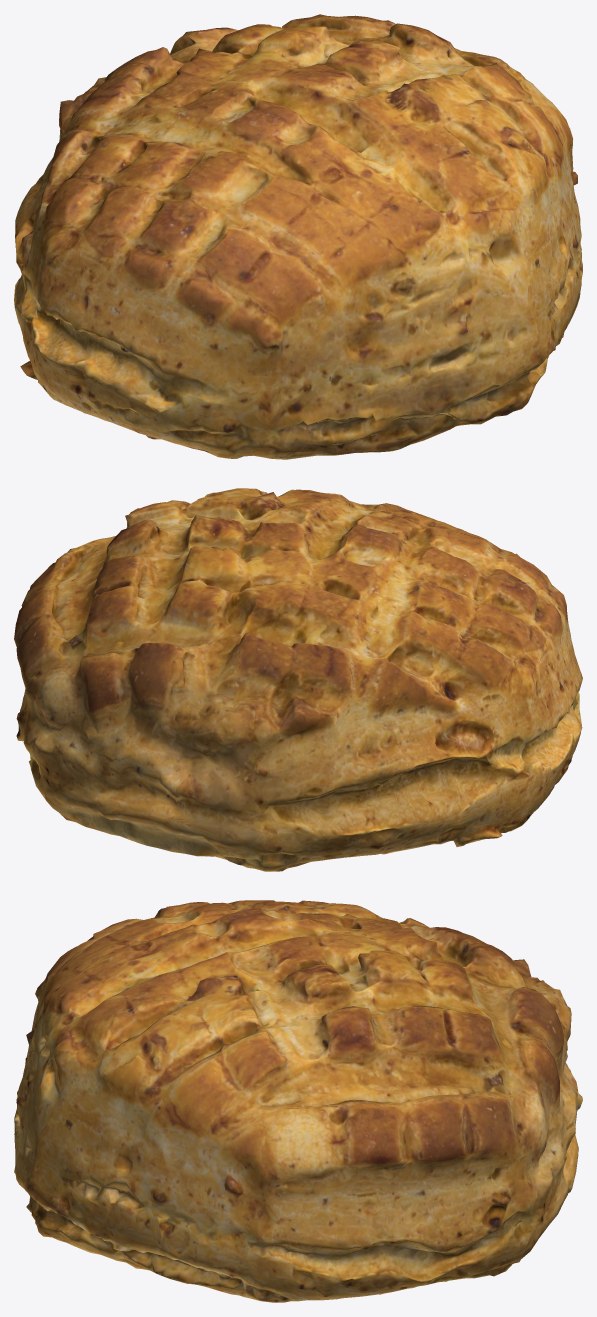
Rendered from BakeryProduct3_LOD1.gltf.
3 renders of one model, top to bottom at view 1: azimuth 30°, elevation 25°; view 2: azimuth 150°, elevation 25°; view 3: azimuth 270°, elevation 25°, orthographic. The views are drawn at different scales.
Parts seen in each view (by area): view 1: BakeryProduct3_LOD1; view 2: BakeryProduct3_LOD1; view 3: BakeryProduct3_LOD1.
Boxes of the visible parts, box(x1,y1,x2,y2) form: BakeryProduct3_LOD1: box(14, 14, 582, 459); BakeryProduct3_LOD1: box(14, 488, 582, 871); BakeryProduct3_LOD1: box(14, 900, 582, 1302).
Bounding box in the file's own units: 0.1183 × 0.0582 × 0.1114.
Materials: 1 (1 with a texture image).
